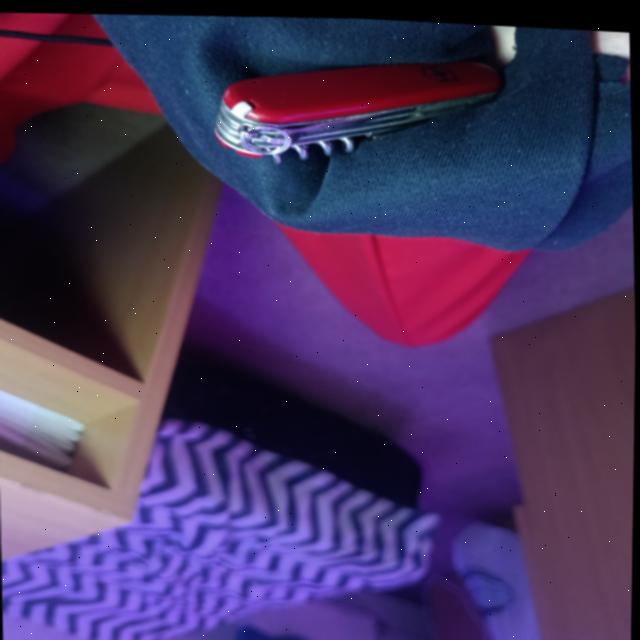knife victorinox: (210, 37, 514, 165)
